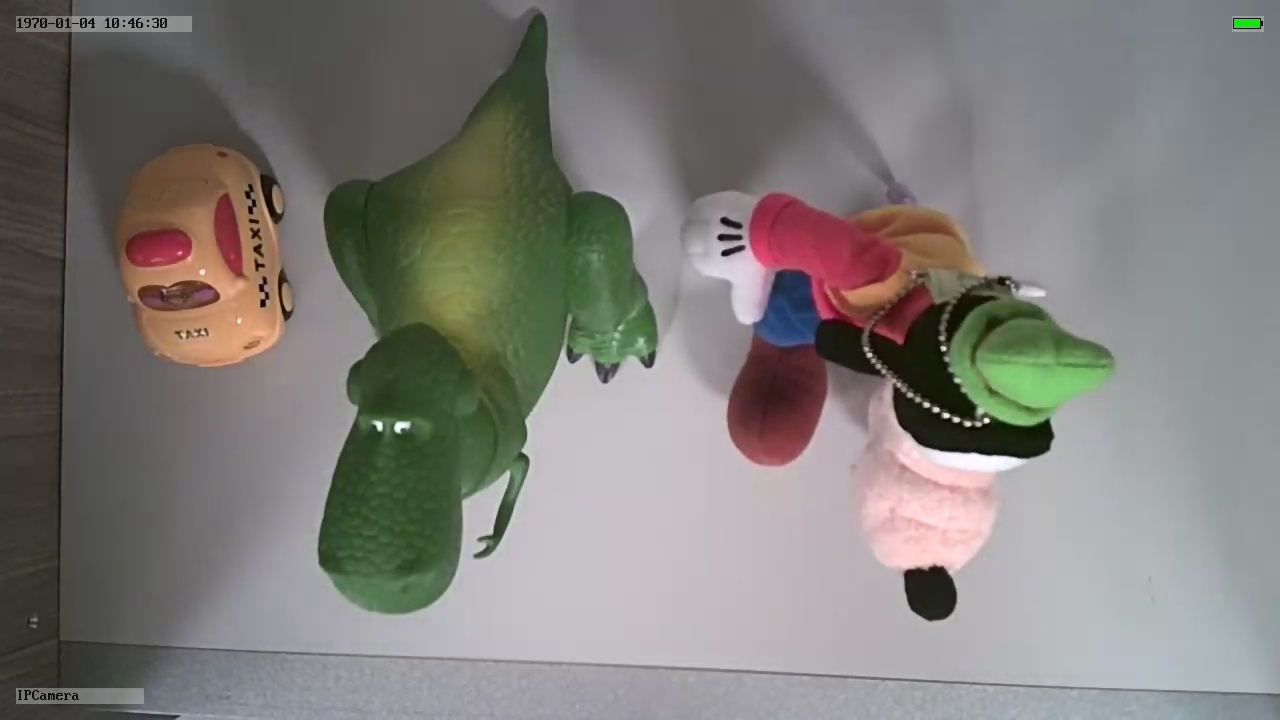car: (112, 135, 298, 369)
goofy: (681, 189, 1116, 622)
rex: (316, 95, 660, 617)
